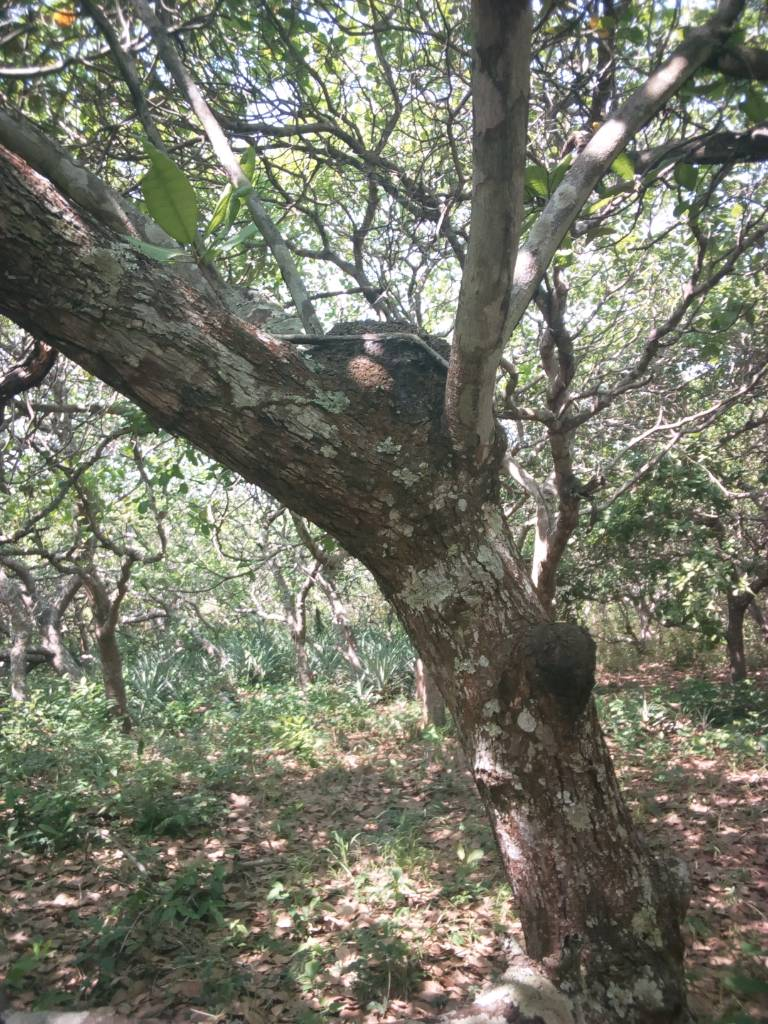Virose: (291, 288, 509, 475), (508, 607, 668, 732)
